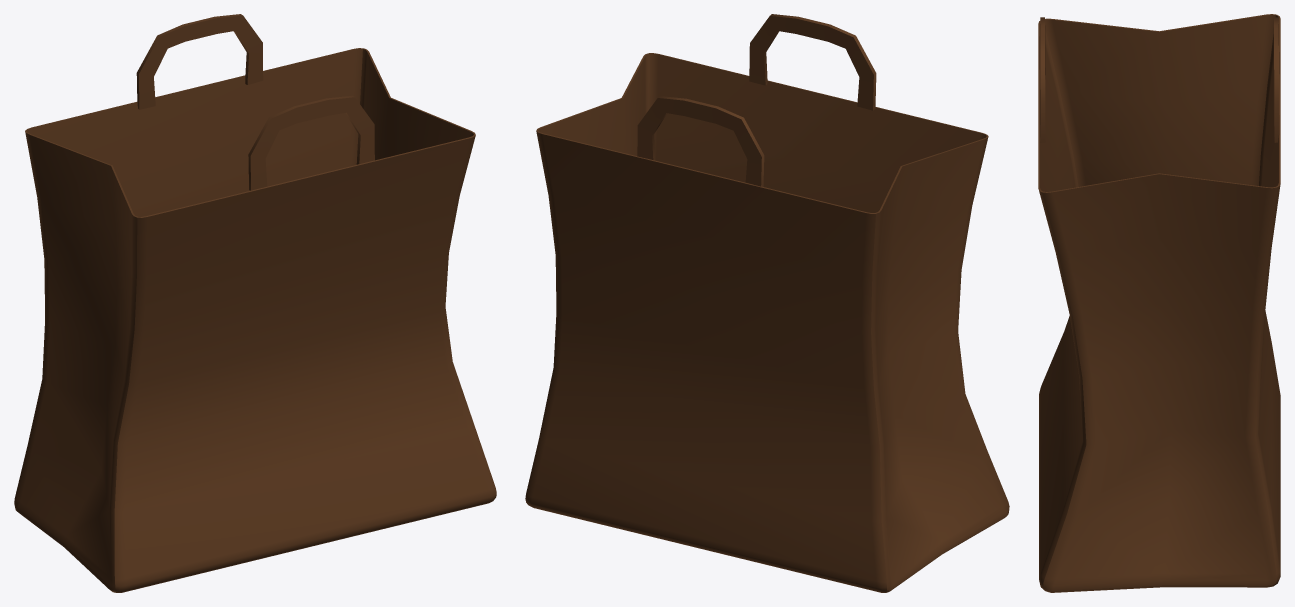
The model's file is Paper waste - Paper bag.fbx.
3 views of the same model, side by side, from view 1: azimuth 30°, elevation 25°; view 2: azimuth 150°, elevation 25°; view 3: azimuth 270°, elevation 25° (orthographic). The views are drawn at different scales.
Parts seen in each view (by area): view 1: Box001; view 2: Box001; view 3: Box001.
Part boxes in pixels (x1,y1,x2,y2): Box001: (14,14,496,592); Box001: (525,14,1009,592); Box001: (1038,14,1280,592).
Size of the model in its own units: 21.86 by 24.2 by 11.39.
